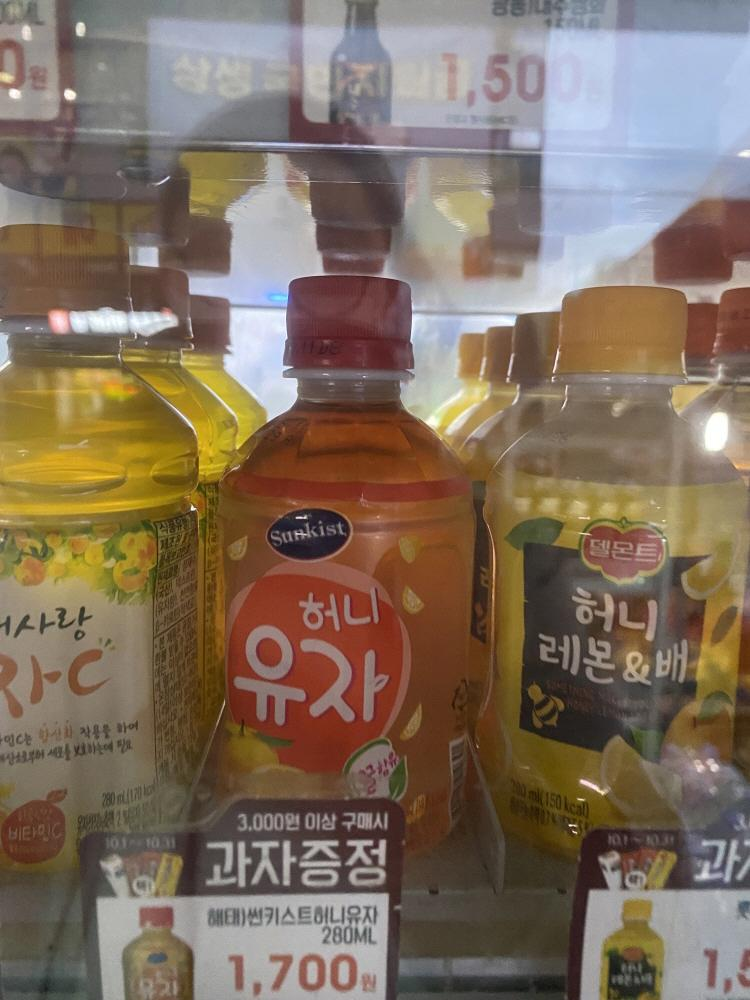honeyyuja: (193, 283, 486, 850)
